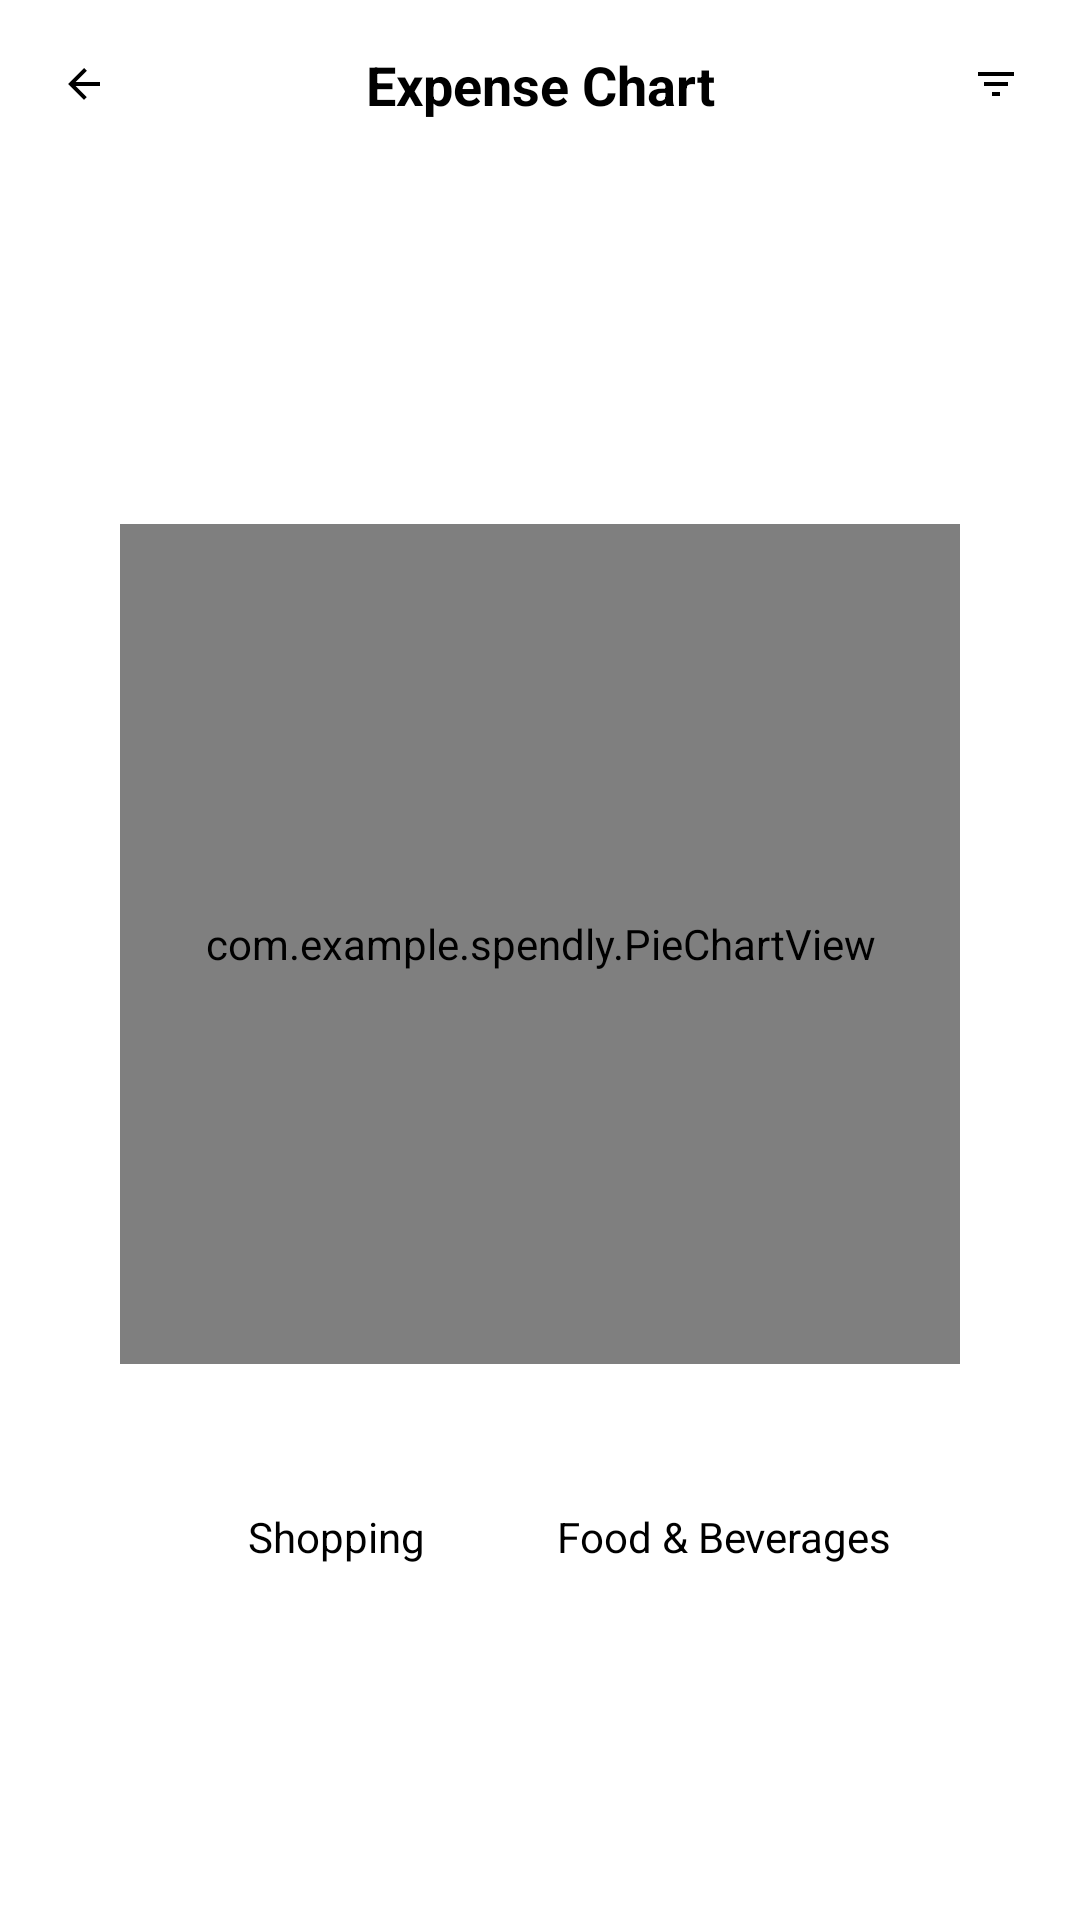

Icon click points for this 1080px x 1920px phone screenshot, format (x=x, y=y):
arrow back: (x=84, y=84)
filter: (x=996, y=84)
